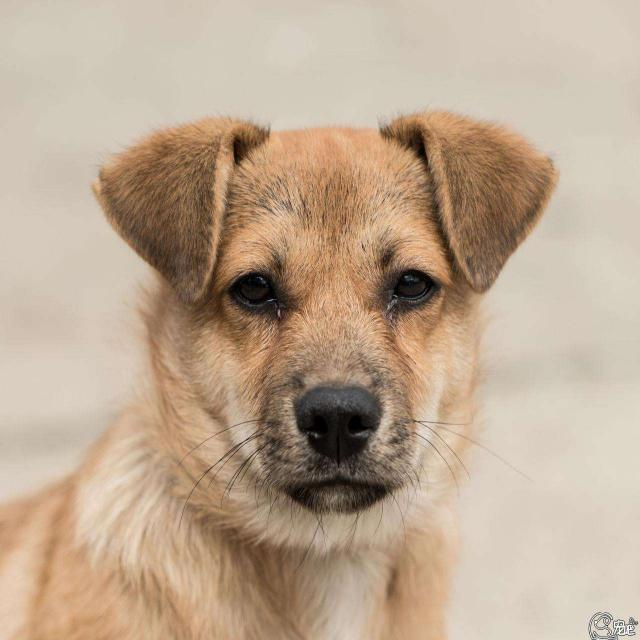eye: (228, 266, 280, 314), (390, 263, 442, 307)
